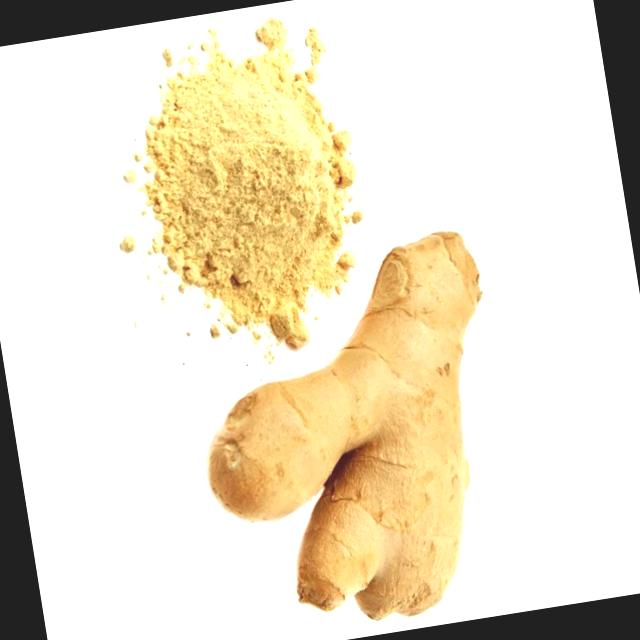ginger-root: (186, 139, 539, 636)
